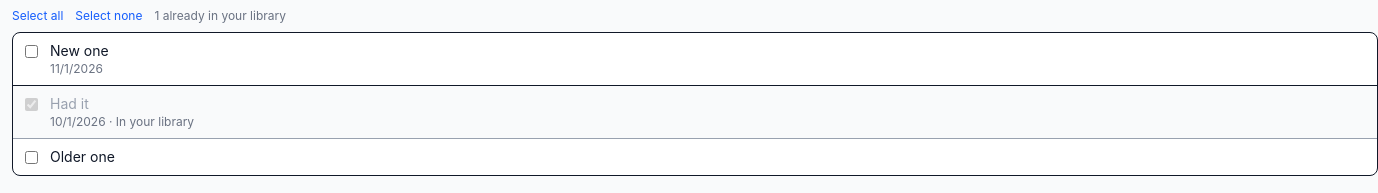
it: EpisodePicker › picks and unpicks an episode
Later steps or results of the test are not shown.
Click the checkbox labelled "New one 11/1/2026" at (32, 52), box [25,45,38,58]
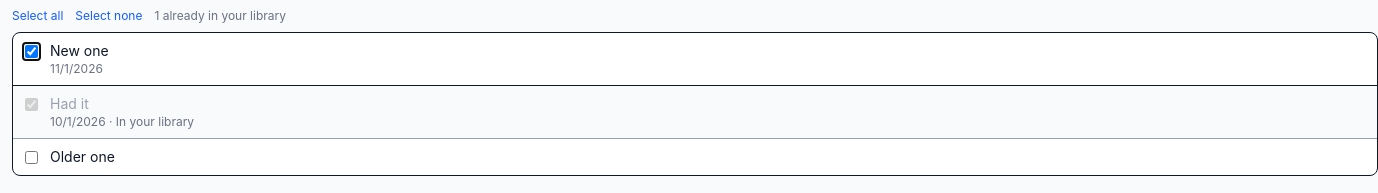
Check: the checkbox labelled "New one 11/1/2026" is checked, box [25,45,38,58]
